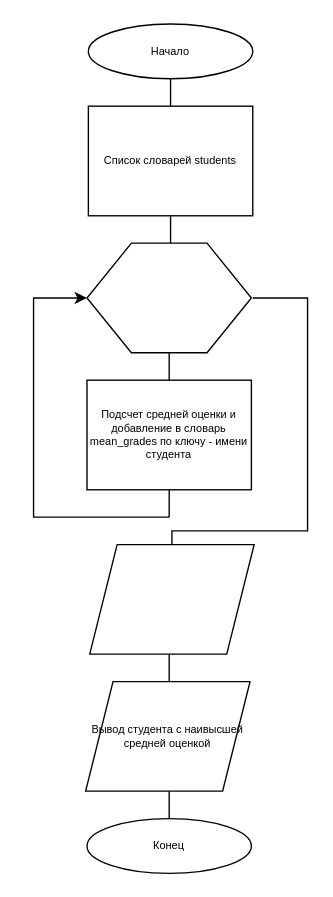
Image size: 333x897. Some labels were removed from this diagram. Each missing label, with the box of its shape:
Вывод mean_grades: (88, 543, 254, 654)
Перебор элементов коллекции students: (86, 242, 251, 353)
